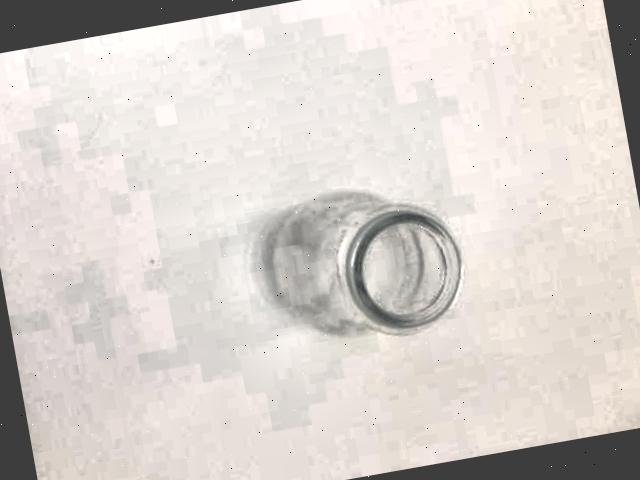Almennt: (206, 137, 514, 383)
